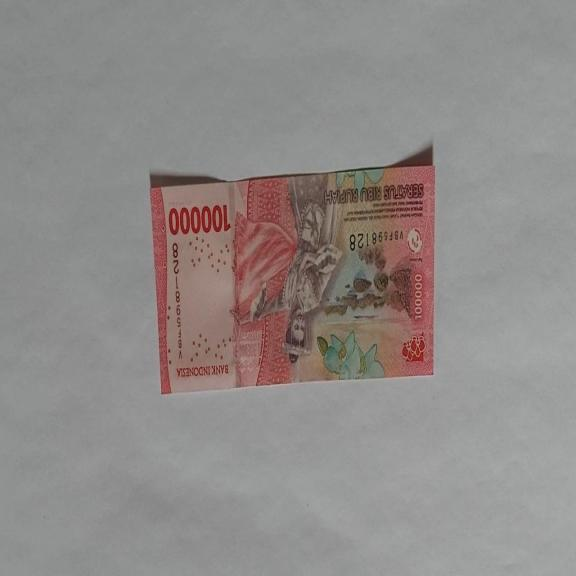Kertas: (150, 149, 436, 394), (168, 202, 230, 235)
